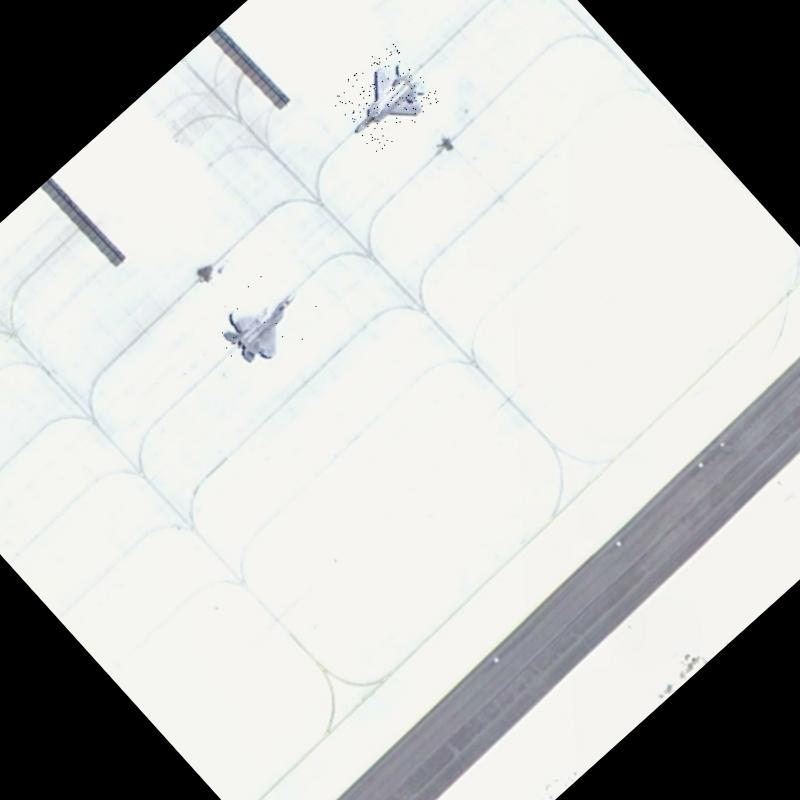A15: (196, 252, 330, 384), (325, 39, 442, 155)
